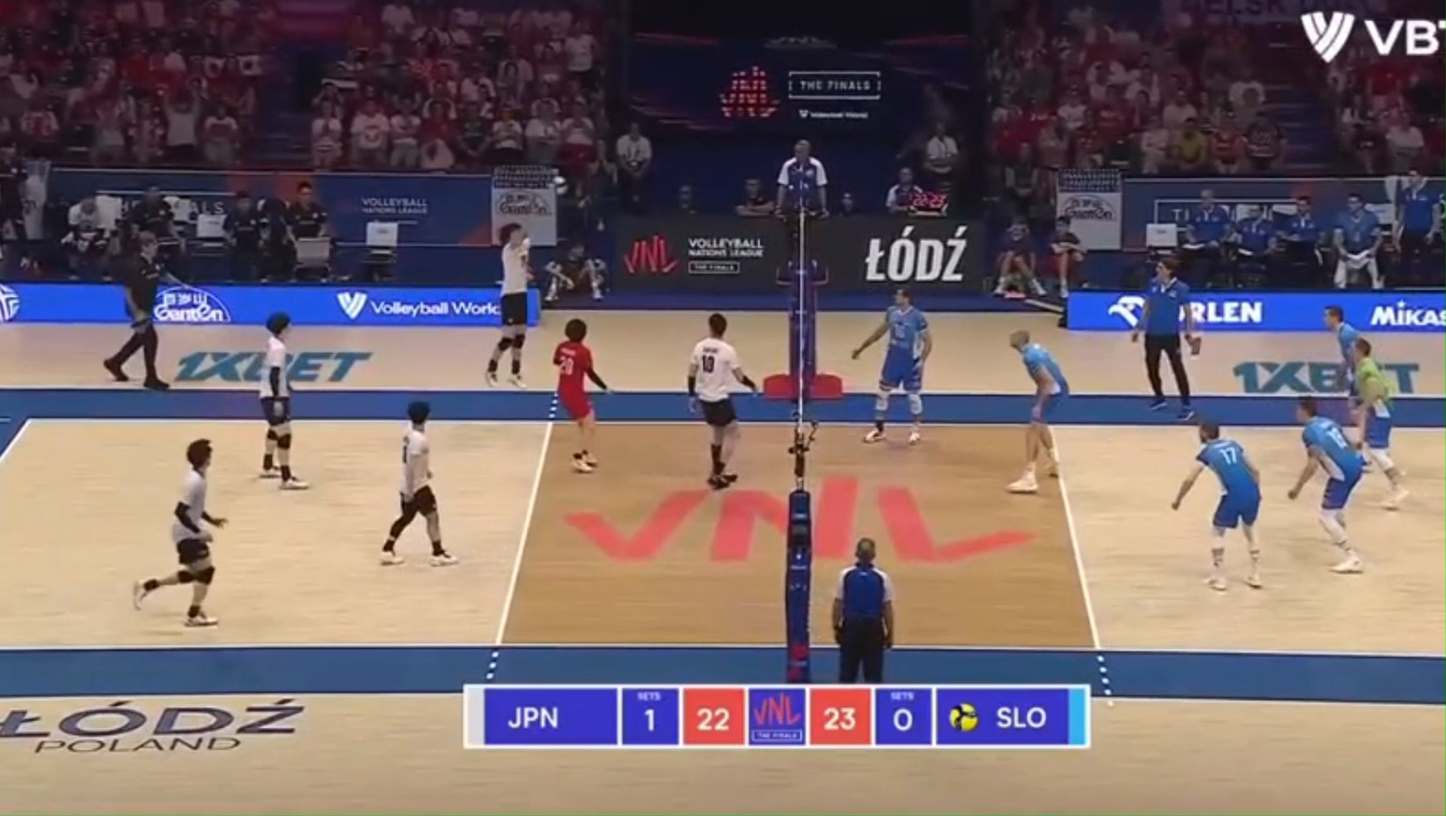ball: (552, 174, 567, 193)
player: (1171, 422, 1262, 591), (1288, 396, 1365, 573), (852, 289, 931, 444), (1007, 329, 1069, 494), (1352, 338, 1407, 509), (1324, 305, 1359, 398)
player 1: (134, 438, 226, 626), (686, 313, 757, 489), (381, 400, 456, 565), (250, 312, 307, 490), (552, 318, 607, 472), (486, 223, 531, 386)
referee: (1132, 258, 1199, 419), (104, 231, 168, 390), (831, 538, 894, 683), (773, 140, 827, 284)
